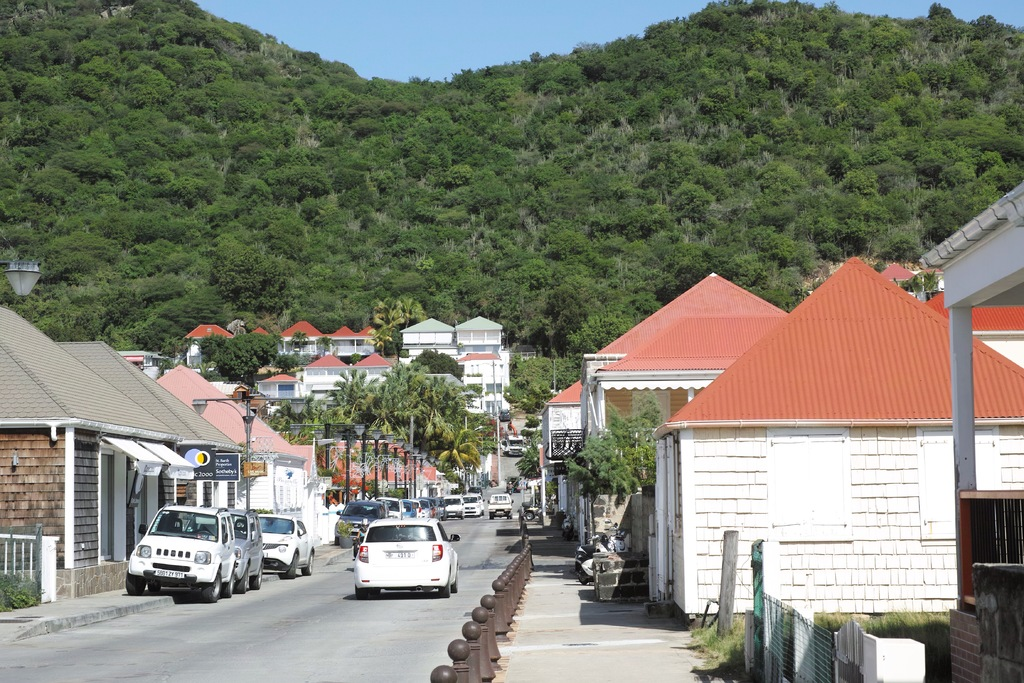Car: (122, 506, 233, 604), (342, 518, 466, 604), (256, 512, 312, 583), (227, 502, 264, 595), (326, 494, 384, 534), (459, 490, 488, 517), (440, 492, 464, 524), (492, 433, 529, 452), (382, 490, 402, 517), (412, 496, 433, 515), (401, 499, 414, 515)
